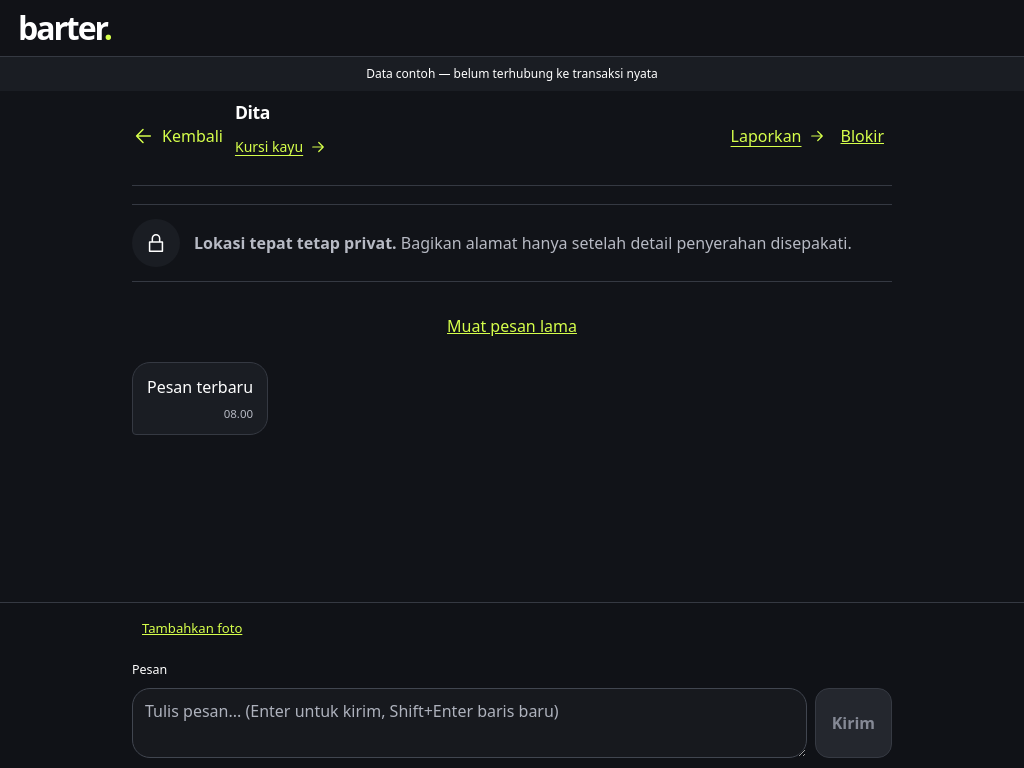
Test: private chat pages › loads older messages before the earliest visible sequence
The width and height of the screenshot is (1024, 768).
Click the button "Muat pesan lama" at (512, 326), box [436,302,588,350]
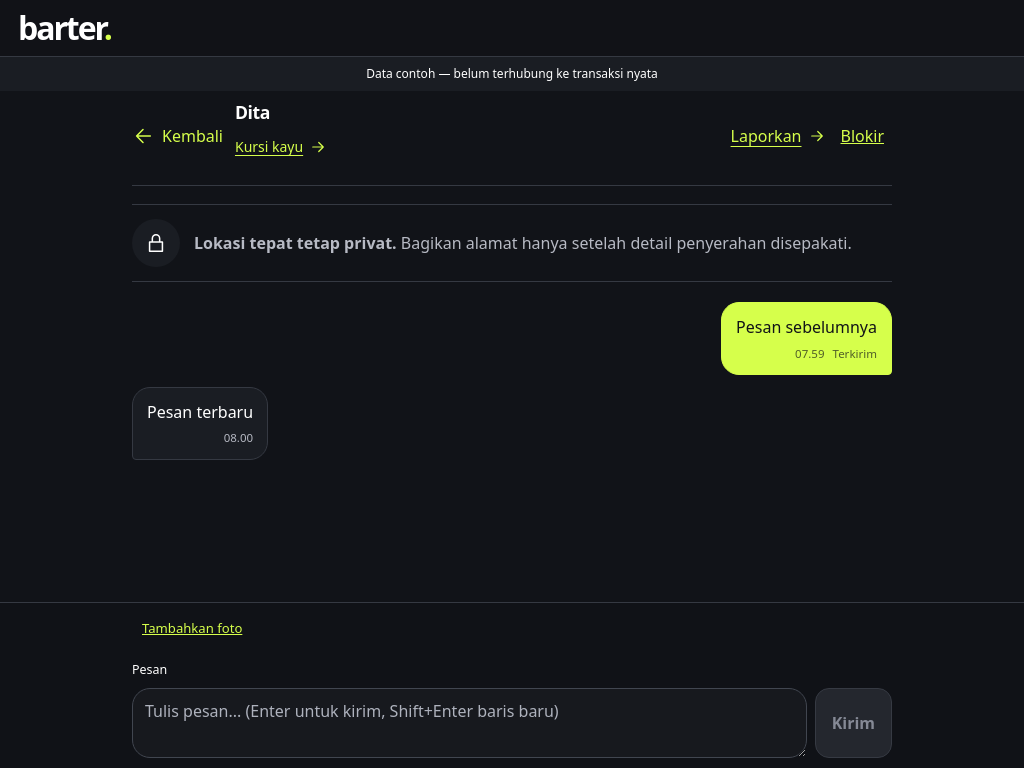
Check: the text "Pesan sebelumnya" is shown, box [736,315,877,339]
